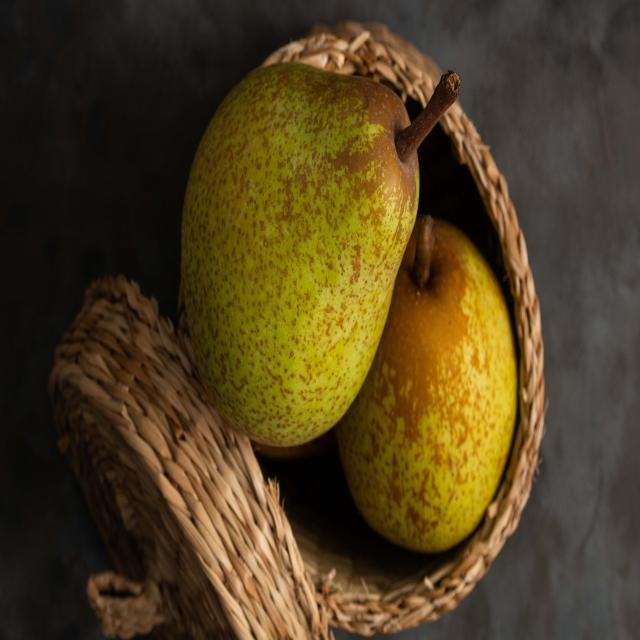pera: (173, 47, 463, 467), (330, 190, 542, 568)
